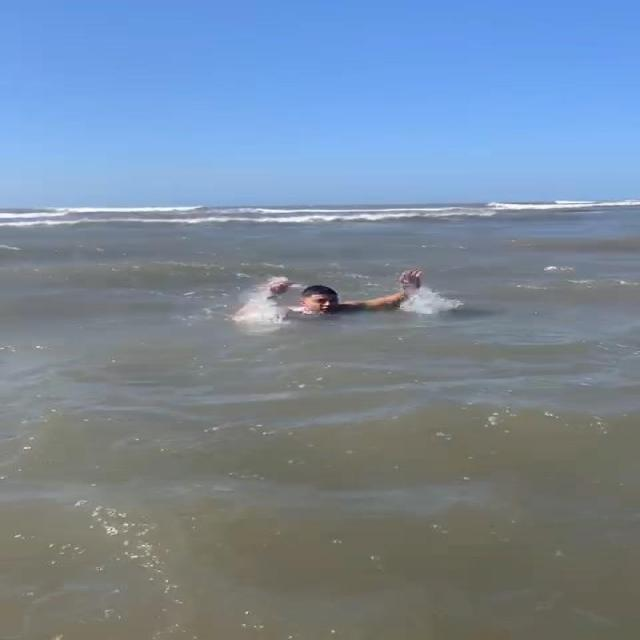Out of Water: (232, 264, 428, 326)
